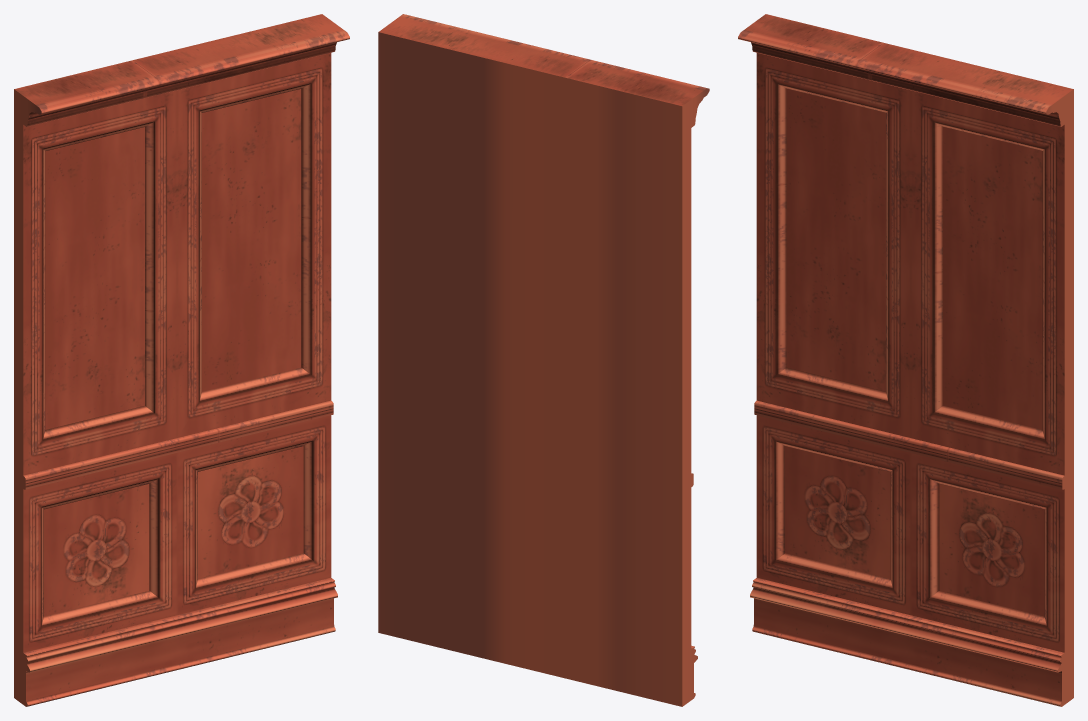
Rendered from MSH_Wall_01b.FBX.
The picture shows the model from 3 angles, left to right: view 1: azimuth 30°, elevation 25°; view 2: azimuth 150°, elevation 25°; view 3: azimuth 330°, elevation 25°; orthographic projection.
Visible parts, largest first — view 1: MSH_Wall_01b; view 2: MSH_Wall_01b; view 3: MSH_Wall_01b.
Part boxes in pixels (x1=…): MSH_Wall_01b: x1=14, y1=14, x2=349, y2=706; MSH_Wall_01b: x1=378, y1=14, x2=709, y2=706; MSH_Wall_01b: x1=738, y1=14, x2=1073, y2=706.
Size of what is drawn, in the model's own units: 180 by 28 by 340.
